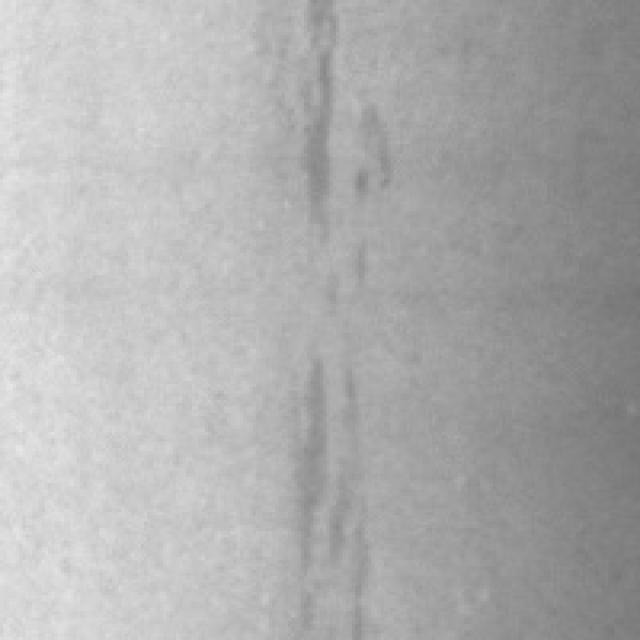inclusion: (266, 320, 378, 634), (282, 0, 384, 275)
